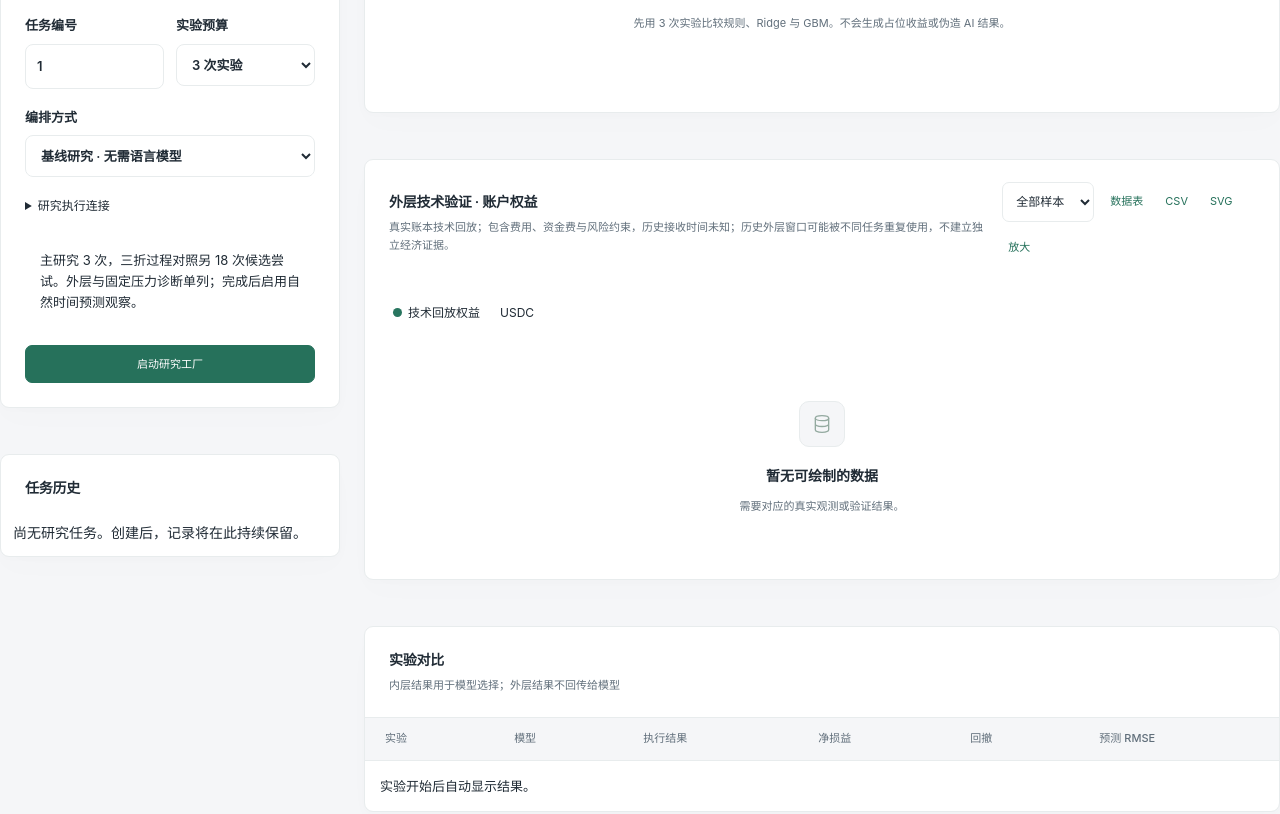
retains the invocation key when retrying a failed request
Later steps or results of the test are not shown.
(page scrolled)
Click the button "启动研究工厂".
click(170, 364)  # box [25,345,315,383]
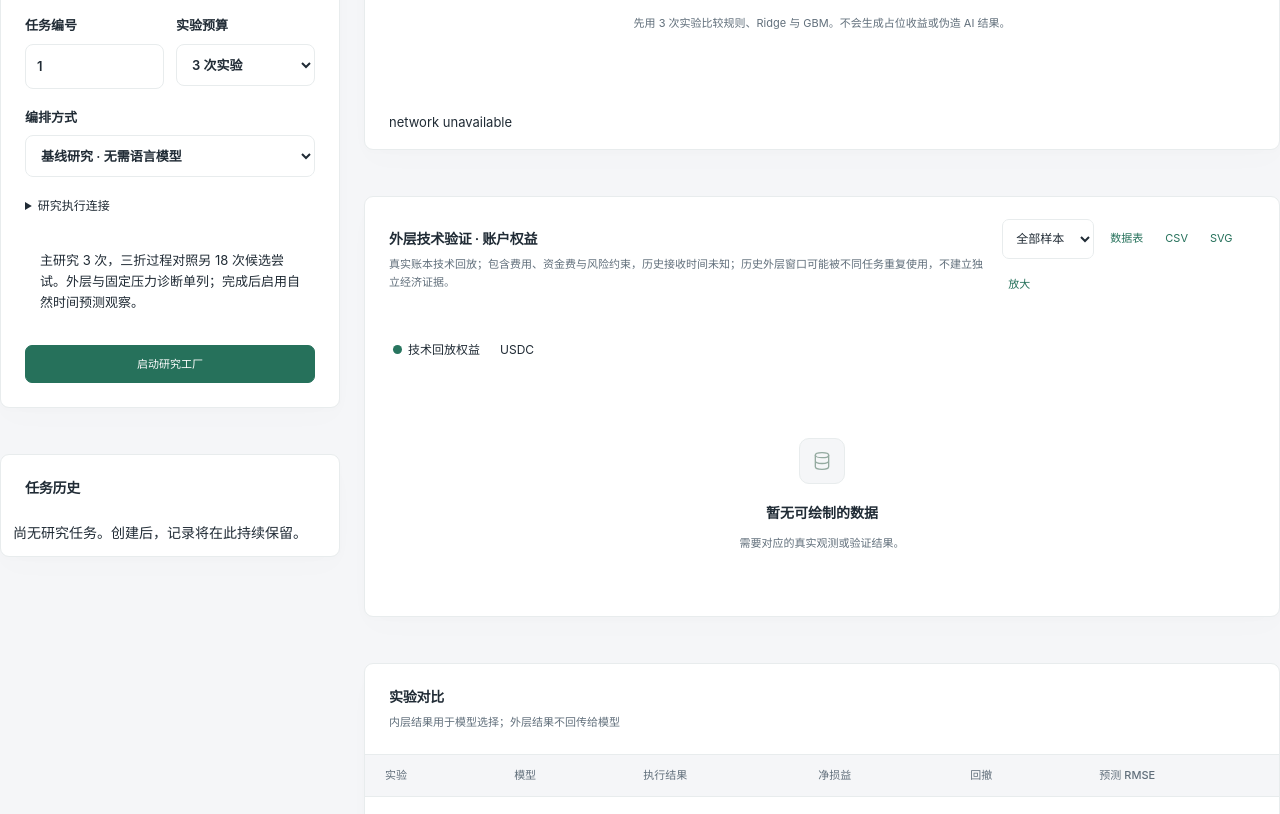
Result: the text "network unavailable" is shown at [389,114,512,130]
